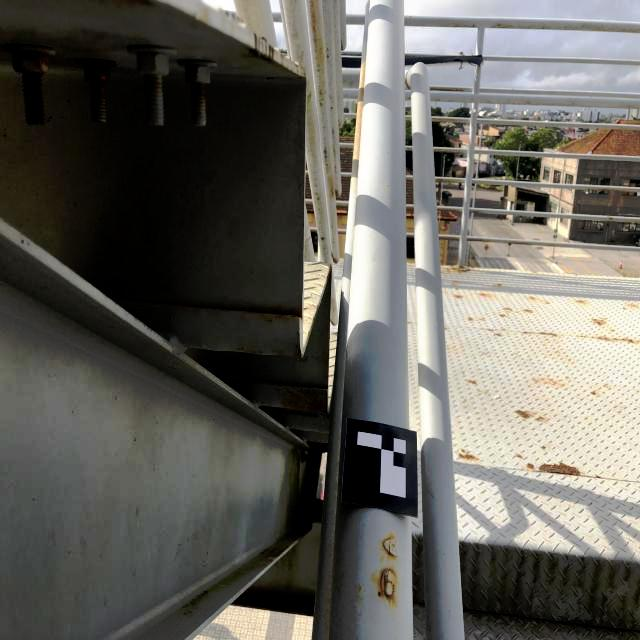Corrosion: (13, 50, 49, 124), (76, 59, 115, 106), (353, 59, 366, 159), (372, 567, 398, 609), (282, 389, 323, 411), (539, 462, 582, 476), (382, 533, 397, 560), (191, 84, 205, 101), (186, 65, 196, 79), (516, 410, 529, 420), (458, 453, 474, 460), (541, 332, 555, 337), (593, 319, 602, 326), (526, 463, 535, 469), (536, 416, 545, 421), (454, 294, 462, 299), (469, 380, 477, 384), (628, 340, 635, 344), (291, 314, 296, 318), (525, 310, 531, 313), (591, 391, 595, 395), (517, 455, 522, 458), (481, 293, 485, 296), (501, 314, 505, 317), (596, 476, 601, 478), (542, 446, 545, 449)
